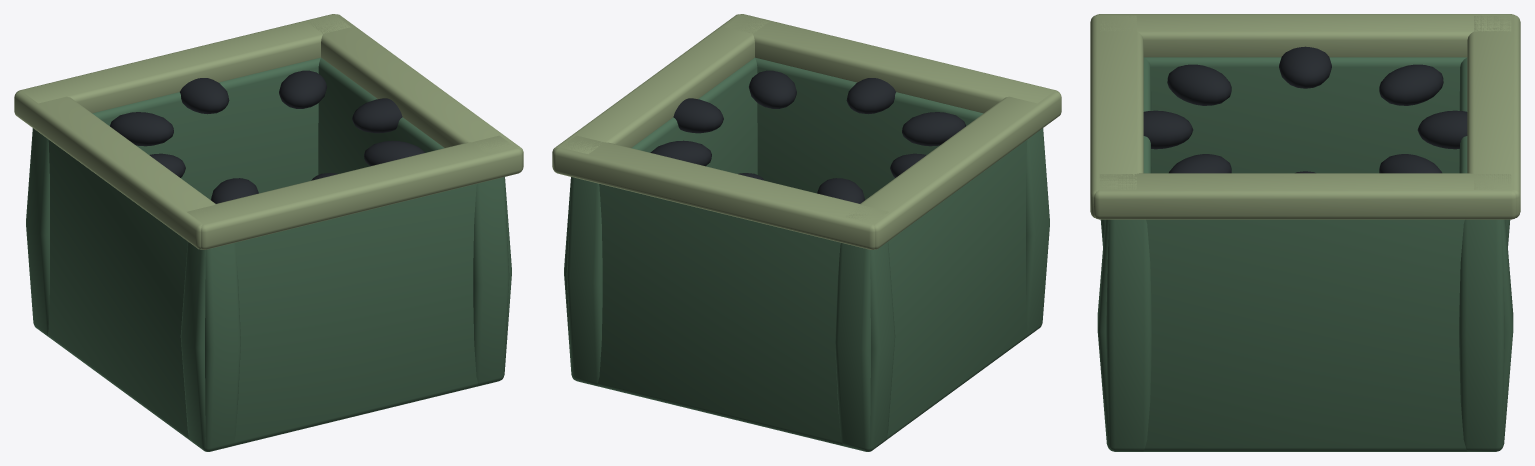
Rendered from trashcan.glb.
3 views of the same model, side by side, from view 1: azimuth 30°, elevation 25°; view 2: azimuth 150°, elevation 25°; view 3: azimuth 270°, elevation 25° (orthographic). The views are drawn at different scales.
Visible parts, largest first — view 1: TrashBaseFloor; view 2: TrashBaseFloor; view 3: TrashBaseFloor.
Part boxes in pixels (x1=…): TrashBaseFloor: x1=14, y1=14, x2=523, y2=451; TrashBaseFloor: x1=552, y1=14, x2=1061, y2=451; TrashBaseFloor: x1=1090, y1=14, x2=1520, y2=451.
Bounding box in the file's own units: 0.89 × 0.6125 × 0.89.
